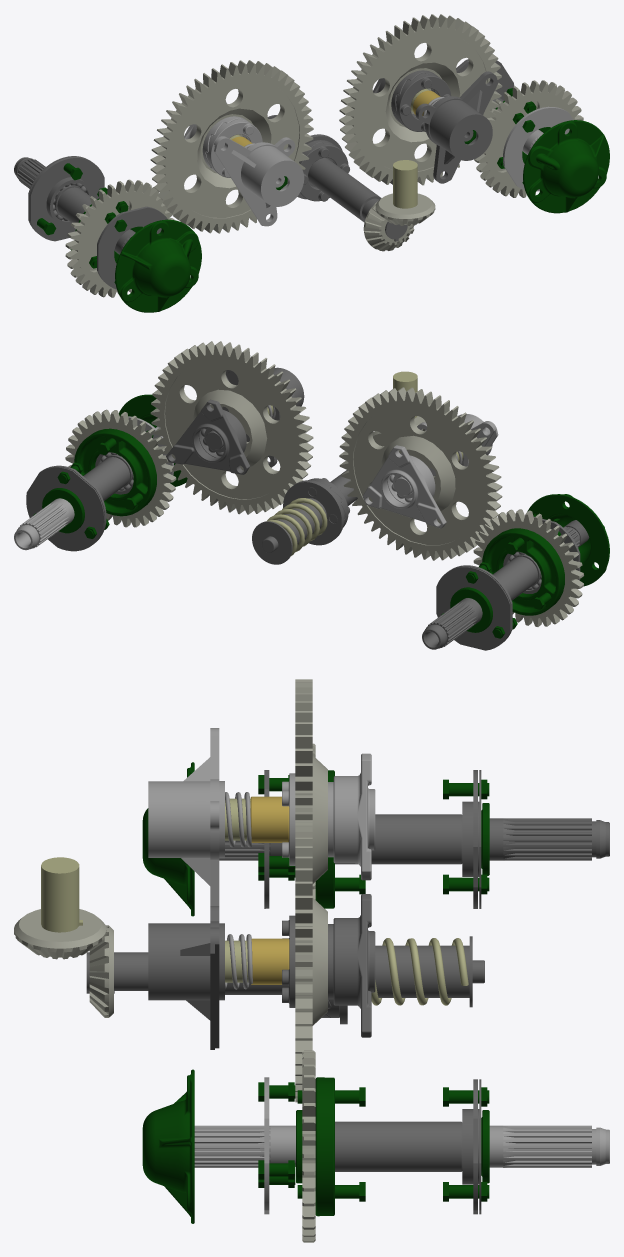
The model's file is GearboxAssy.dae.
3 views of the same model, one above another, from view 1: azimuth 30°, elevation 25°; view 2: azimuth 150°, elevation 25°; view 3: azimuth 270°, elevation 25° (orthographic). The views are drawn at different scales.
Parts seen in each view (by area): view 1: n274017_gear_53t, n274017_gear_53t_1, n273690_cover, n273690_cover_1, n274010_housing_1, n274010_housing, n274157_spur_gear_1, n274157_spur_gear, n273348_washer_2, ce17354_shaft, n273348_washer_1, n273348_washer_3 (+12 smaller); view 2: n274017_gear_53t, n274017_gear_53t_1, n274157_spur_gear_1, n274157_spur_gear, n274011_housing, n274011_housing_1, n274233_spacer, n274233_spacer_1, n275080_washer, n275080_washer_1, n273690_cover_1, n273303_shaft_1 (+12 smaller); view 3: n273303_shaft, n274010_housing, n274010_housing_1, n274242_hub, n274017_gear_53t_1, n273303_shaft_1, n273690_cover, n274242_hub_1, n274017_gear_53t, n274011_housing_1, n274011_housing, ce17354_shaft (+19 smaller).
Part boxes in pixels (x1,y1,x2,y2): n274017_gear_53t: (150,60,313,233); n274017_gear_53t_1: (339,14,502,185); n273690_cover: (523,120,609,213); n273690_cover_1: (115,219,201,312); n274010_housing_1: (415,71,498,183); n274010_housing: (214,136,304,226); n274157_spur_gear_1: (65,179,174,297); n274157_spur_gear: (474,80,583,197); n273348_washer_2: (29,157,104,241); ce17354_shaft: (267,115,381,222); n273348_washer_1: (503,106,573,191); n273348_washer_3: (97,206,167,289); n274017_gear_53t: (339,387,502,560); n274017_gear_53t_1: (150,341,313,514); n274157_spur_gear_1: (473,509,583,626); n274157_spur_gear: (65,409,176,527); n274011_housing: (362,445,446,528); n274011_housing_1: (166,399,249,474); n274233_spacer: (74,428,156,516); n274233_spacer_1: (482,528,564,615); n275080_washer: (26,467,104,551); n275080_washer_1: (436,566,510,650); n273690_cover_1: (527,494,609,586); n273303_shaft_1: (422,520,589,649); n273303_shaft: (194,1125,609,1167); n274010_housing: (148,728,224,905); n274010_housing_1: (148,906,224,1049); n274242_hub: (335,1121,462,1171); n274017_gear_53t_1: (295,821,327,1102); n273303_shaft_1: (219,818,609,860); n273690_cover: (142,1069,194,1223); n274242_hub_1: (335,814,462,864); n274017_gear_53t: (295,679,327,883); n274011_housing_1: (333,894,375,1037); n274011_housing: (333,753,375,880); ce17354_shaft: (225,936,484,1007).
Bounding box in the file's own units: 29.77 × 11.32 × 19.31.
